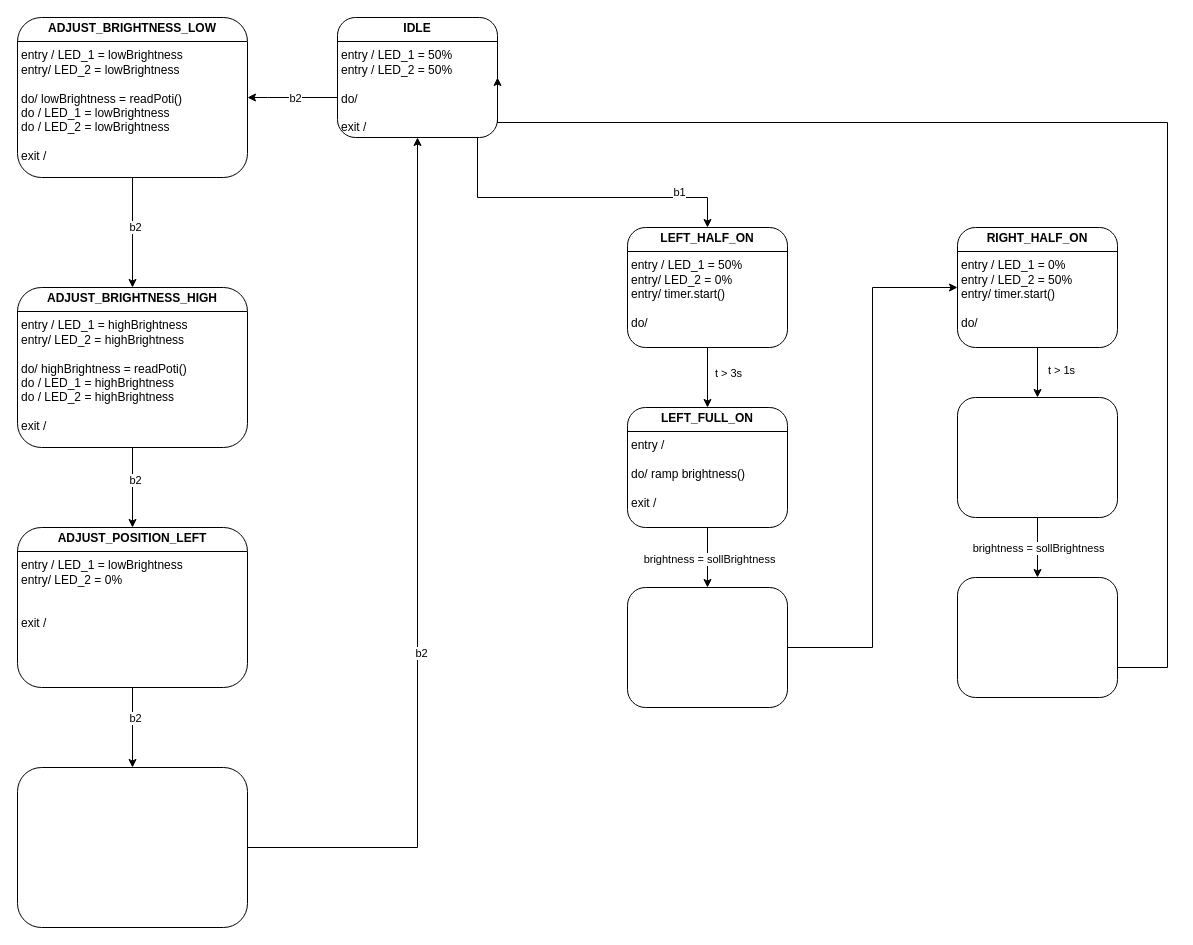
Image size: 1193x945. Some labels were removed from this diagram. Here are the shapes that lost their labels. From the top down, the box of each, then its label:
(956, 396, 1118, 518): RIGHT_FULL_ON entry / do/ ramp brightness() exit /
(626, 586, 788, 708): FOTO_LEFT entry / shutter.HIGH do/ exit / shutter.LOW
(956, 576, 1118, 698): FOTO_RIGHT entry / shutter.HIGH do/ exit / shutter.LOW
(16, 766, 248, 928): ADJUST_POSITION_RIGHT entry / LED_1 = 0% entry/ LED_2 = lowBrightness exit /
